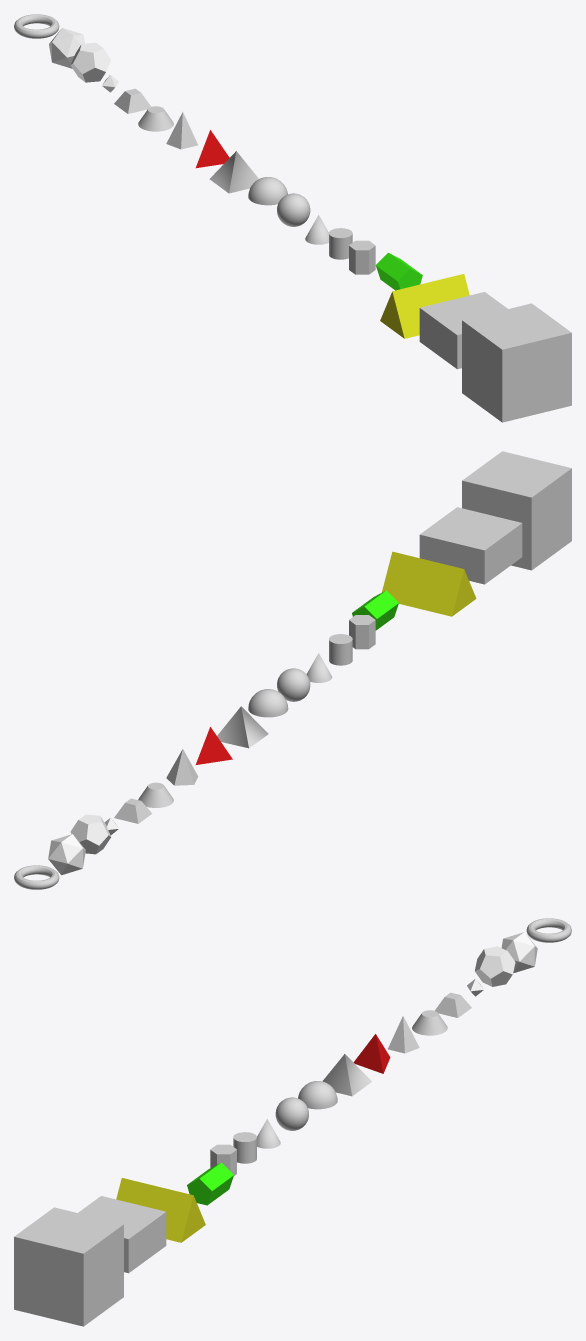
File: Mathmatics_project.fbx
3 renders of one model, top to bottom at view 1: azimuth 30°, elevation 25°; view 2: azimuth 150°, elevation 25°; view 3: azimuth 330°, elevation 25°, orthographic.
Visible parts, largest first — view 1: Cube, cuboid, Triangular_prism, Dodecahedron, Square Pyramid, Pentagonal_Prism, Icosahedron, Sphere, Hemisphere, Hexagonal Prism, Torus, Triangular Pyramid (+4 smaller); view 2: Cube, cuboid, Triangular_prism, Square Pyramid, Icosahedron, Dodecahedron, Hemisphere, Pentagonal_Prism, Sphere, Hexagonal Prism, Torus, Triangular Pyramid (+4 smaller); view 3: Cube, cuboid, Triangular_prism, Dodecahedron, Pentagonal_Prism, Square Pyramid, Icosahedron, Sphere, Hemisphere, Torus, Triangular Pyramid, frustum of a cone (+4 smaller).
Part boxes in pixels (x1,y1,x2,y2): Cube: (462, 303, 571, 422); cuboid: (419, 292, 507, 369); Triangular_prism: (380, 274, 469, 338); Dodecahedron: (70, 42, 110, 82); Square Pyramid: (209, 151, 258, 193); Pentagonal_Prism: (375, 252, 422, 290); Icosahedron: (49, 28, 84, 68); Sphere: (277, 193, 310, 226); Hemisphere: (248, 177, 287, 205); Hexagonal Prism: (349, 240, 375, 274); Torus: (14, 14, 59, 38); Triangular Pyramid: (196, 130, 229, 168); Cube: (462, 451, 571, 570); cuboid: (419, 507, 522, 584); Triangular_prism: (382, 551, 476, 616); Square Pyramid: (217, 706, 268, 748); Icosahedron: (48, 834, 85, 875); Dodecahedron: (70, 814, 110, 854); Hemisphere: (248, 689, 288, 717); Pentagonal_Prism: (352, 590, 398, 630); Sphere: (277, 668, 310, 701); Hexagonal Prism: (349, 615, 375, 649); Torus: (14, 865, 59, 889); Triangular Pyramid: (195, 727, 232, 764); Cube: (14, 1207, 123, 1326); cuboid: (78, 1196, 166, 1273); Triangular_prism: (116, 1178, 205, 1242); Dodecahedron: (475, 946, 515, 986); Pentagonal_Prism: (187, 1162, 233, 1205); Square Pyramid: (322, 1054, 371, 1096); Icosahedron: (501, 932, 537, 973); Sphere: (275, 1097, 308, 1130); Hemisphere: (298, 1081, 337, 1109); Torus: (526, 918, 571, 942); Triangular Pyramid: (353, 1034, 390, 1073); frustum of a cone: (412, 1010, 447, 1035).
Size of the model in its own units: 68.2 by 66.11 by 841.
